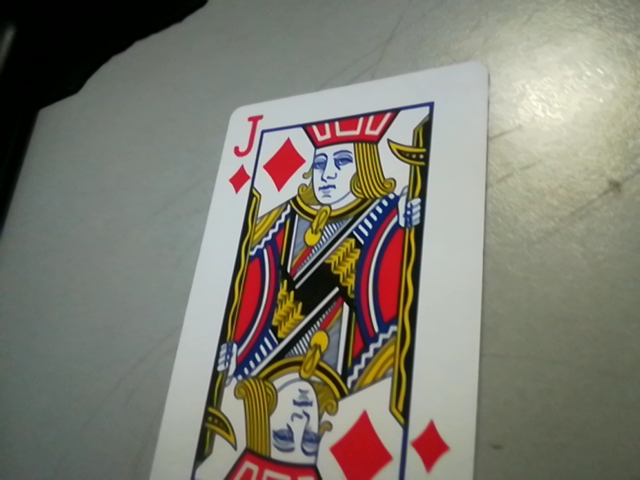fk j: (218, 112, 264, 192)
